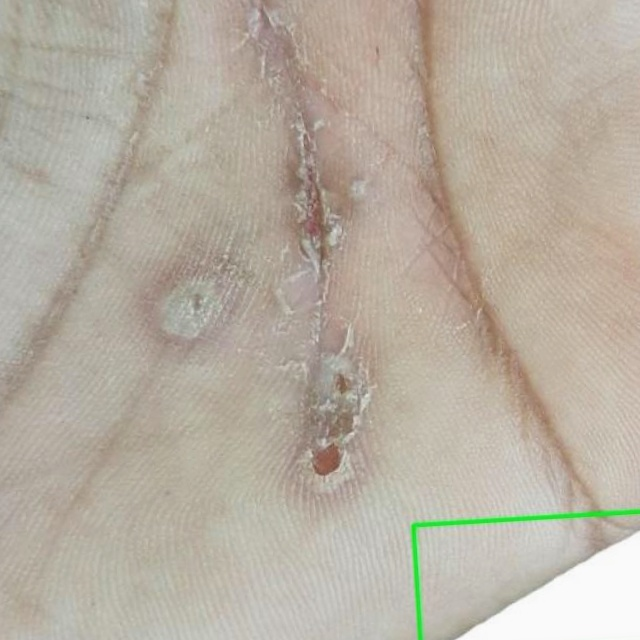Scabies: (413, 511, 639, 639)
